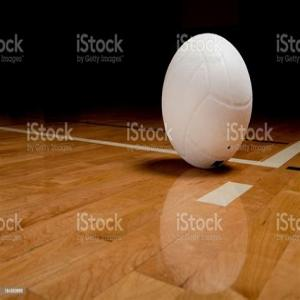Volley: (160, 32, 253, 170)
